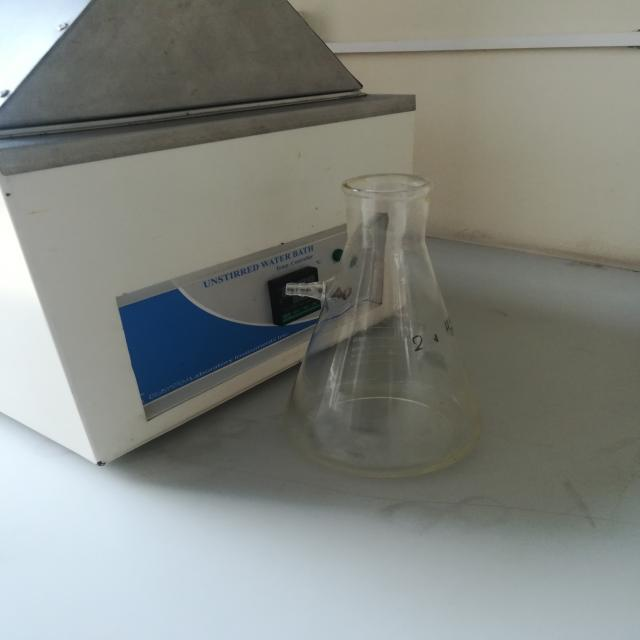Conical_Flask: (256, 111, 512, 518)
